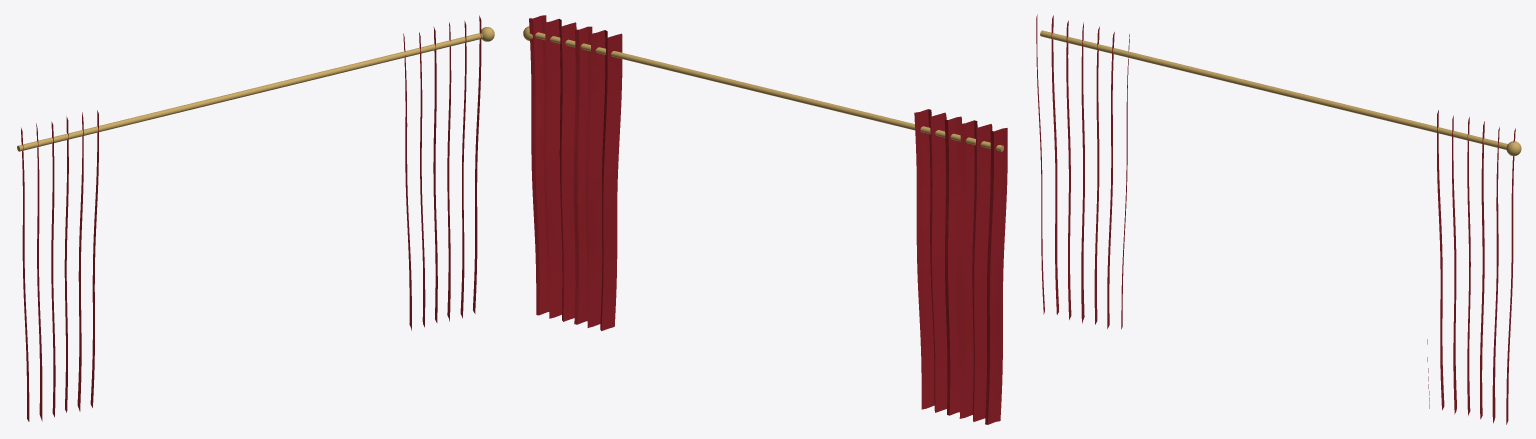
The model's file is curtain_set.glb.
3 views of the same model, side by side, from view 1: azimuth 30°, elevation 25°; view 2: azimuth 150°, elevation 25°; view 3: azimuth 330°, elevation 25° (orthographic).
Visible parts, largest first — view 1: LeftCurtain, RightCurtain, Rod; view 2: LeftCurtain, RightCurtain, Rod; view 3: LeftCurtain, RightCurtain, Rod.
Boxes of the visible parts, x1,y1,x2,y2 form: LeftCurtain: [21, 110, 98, 421]; RightCurtain: [403, 15, 481, 330]; Rod: [17, 33, 482, 151]; LeftCurtain: [914, 109, 1007, 424]; RightCurtain: [529, 15, 622, 330]; Rod: [535, 32, 1003, 151]; LeftCurtain: [1036, 14, 1129, 329]; RightCurtain: [1427, 110, 1515, 424]; Rod: [1040, 30, 1507, 149].
Size of the model in its own units: 8.14 by 4.75 by 0.2892.
